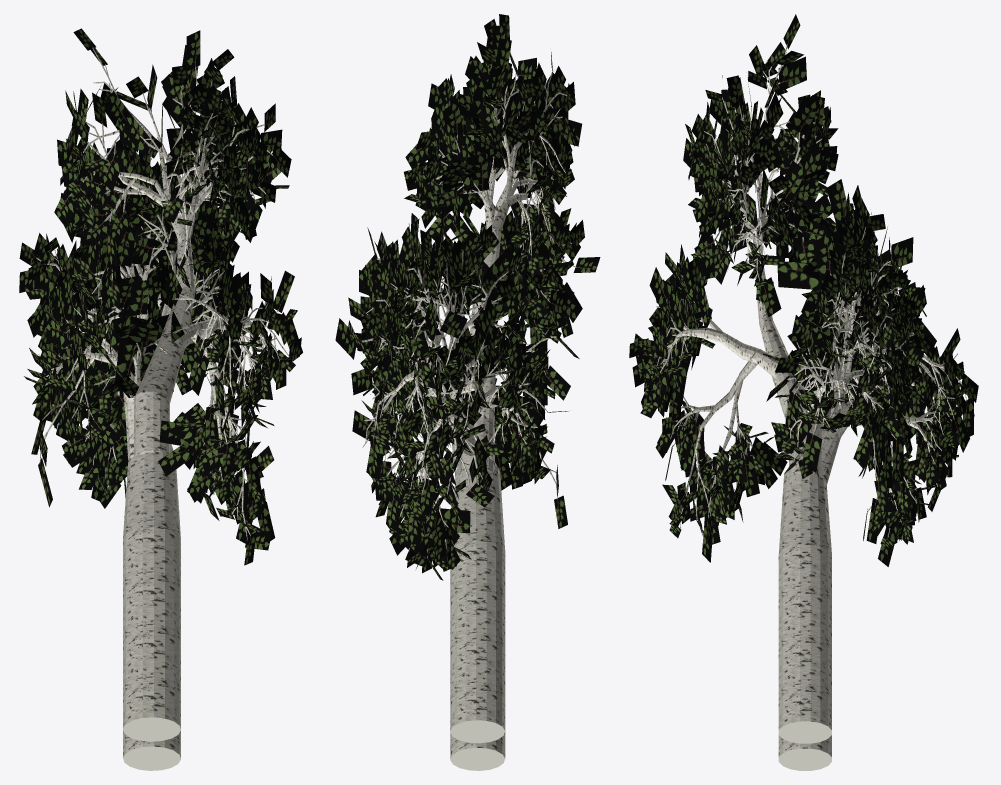
File: tree_birch.glb
3 renders of one model, left to right at view 1: azimuth 30°, elevation 25°; view 2: azimuth 150°, elevation 25°; view 3: azimuth 270°, elevation 25°, orthographic. The views are drawn at different scales.
Visible parts, largest first — view 1: Trunk, Trunk#9, Trunk.Stump, Trunk#11, Leaf#1949, Leaf#1939, Leaf#2024, Leaf#3092, Trunk#10, Leaf#2596, Leaf#2779, Leaf#2543 (+2 smaller); view 2: Trunk, Trunk.Stump, Trunk#9, Leaf#3036, Trunk#11, Leaf#971, Leaf#2135, Leaf#6, Leaf#1648, Leaf#1076, Leaf#2895; view 3: Trunk, Trunk.Stump, Trunk#9, Trunk#11, Leaf#970, Trunk#10, Leaf#738, Leaf#937, Leaf#2561, Leaf#2479.
Boxes of the visible parts, bbox=[...] form: Trunk: bbox=[123, 396, 180, 741]; Trunk#9: bbox=[134, 334, 184, 456]; Trunk.Stump: bbox=[123, 729, 180, 770]; Trunk#11: bbox=[160, 206, 197, 337]; Leaf#1949: bbox=[127, 318, 159, 349]; Leaf#1939: bbox=[129, 280, 149, 316]; Leaf#2024: bbox=[115, 339, 137, 379]; Leaf#3092: bbox=[123, 112, 150, 157]; Trunk#10: bbox=[172, 317, 219, 352]; Leaf#2596: bbox=[116, 226, 136, 267]; Leaf#2779: bbox=[186, 30, 200, 71]; Leaf#2543: bbox=[100, 151, 122, 192]; Trunk: bbox=[450, 426, 505, 743]; Trunk.Stump: bbox=[450, 731, 505, 770]; Trunk#9: bbox=[460, 373, 495, 474]; Leaf#3036: bbox=[466, 154, 489, 192]; Trunk#11: bbox=[470, 202, 501, 345]; Leaf#971: bbox=[487, 245, 514, 287]; Leaf#2135: bbox=[542, 365, 570, 400]; Leaf#6: bbox=[440, 508, 470, 533]; Leaf#1648: bbox=[479, 297, 496, 345]; Leaf#1076: bbox=[440, 311, 467, 338]; Leaf#2895: bbox=[442, 100, 463, 136]; Trunk: bbox=[778, 423, 841, 743]; Trunk.Stump: bbox=[778, 735, 831, 770]; Trunk#9: bbox=[771, 372, 821, 477]; Trunk#11: bbox=[753, 240, 788, 367]; Leaf#970: bbox=[777, 261, 820, 289]; Trunk#10: bbox=[722, 332, 778, 379]; Leaf#738: bbox=[813, 233, 834, 281]; Leaf#937: bbox=[826, 179, 850, 227]; Leaf#2561: bbox=[778, 56, 806, 91]; Leaf#2479: bbox=[789, 96, 820, 134].
Bounding box in the file's own units: 4.03 × 13.12 × 5.96.
3 materials, 3 textured.
